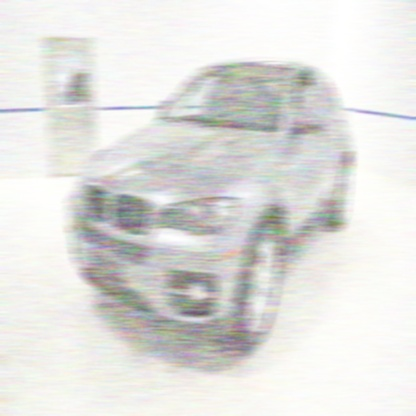Vehicle: (66, 54, 353, 352)
